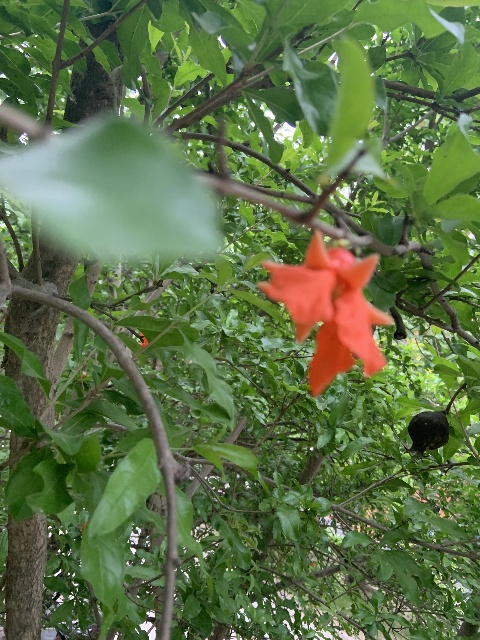flower: (256, 232, 393, 397), (137, 332, 149, 349)
